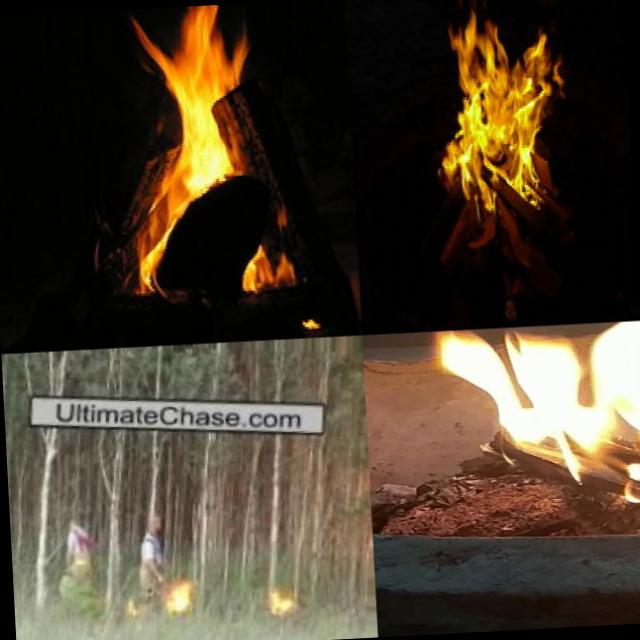fire: (416, 320, 640, 552), (98, 3, 270, 286), (430, 8, 578, 227), (159, 572, 197, 618), (262, 574, 293, 622)
